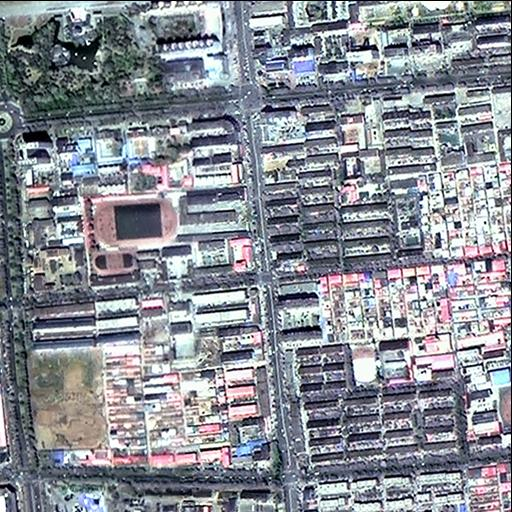school: (86, 182, 253, 244), (87, 244, 196, 283), (350, 338, 410, 388), (166, 290, 199, 359)
